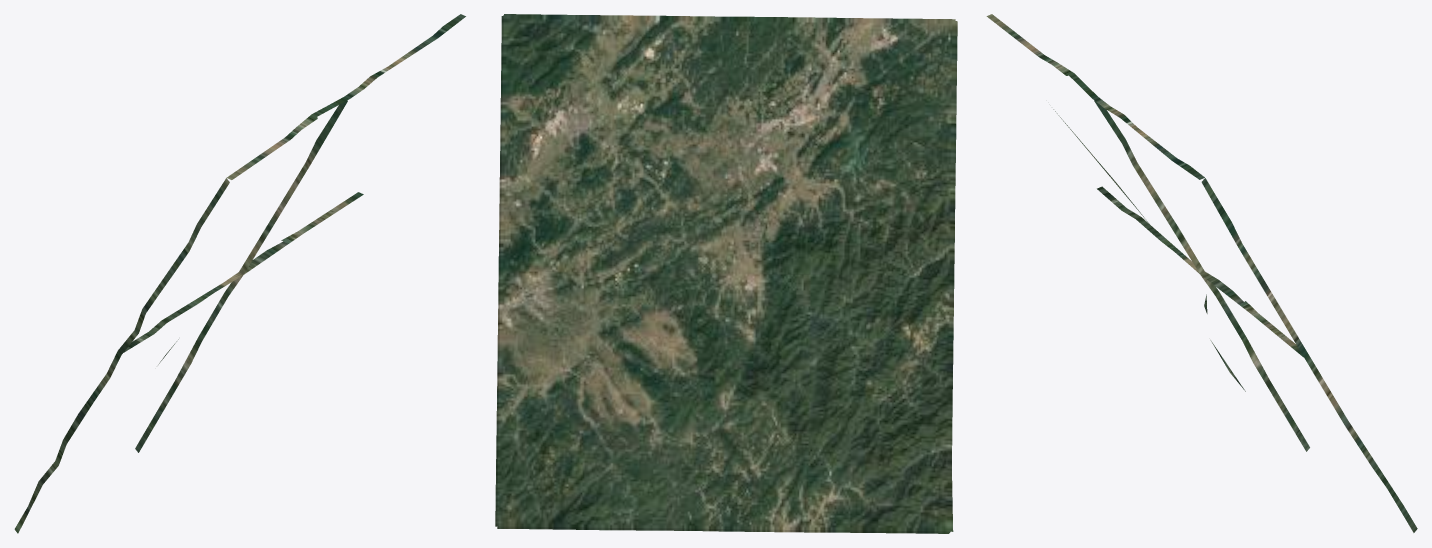
3 renders of one model, left to right at view 1: azimuth 30°, elevation 25°; view 2: azimuth 150°, elevation 25°; view 3: azimuth 270°, elevation 25°, orthographic.
Bounding box in the file's own units: 79612 × 69684 × 67122.
Materials: 1 (1 with a texture image).
